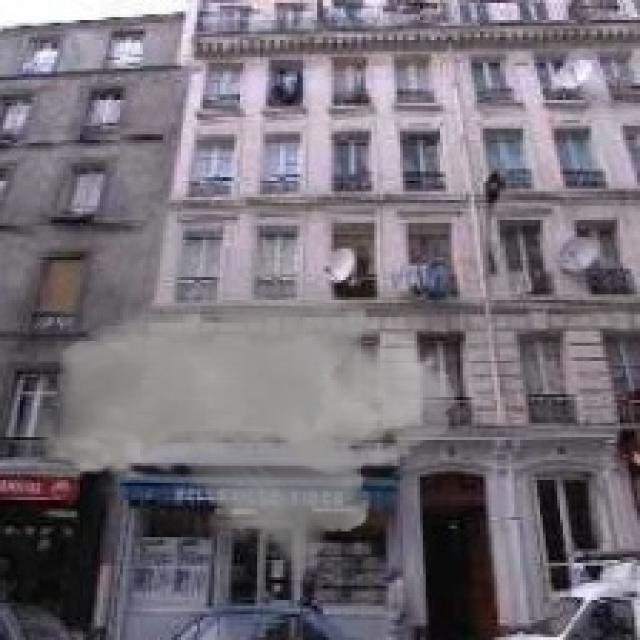Smoke: (37, 183, 457, 583)
